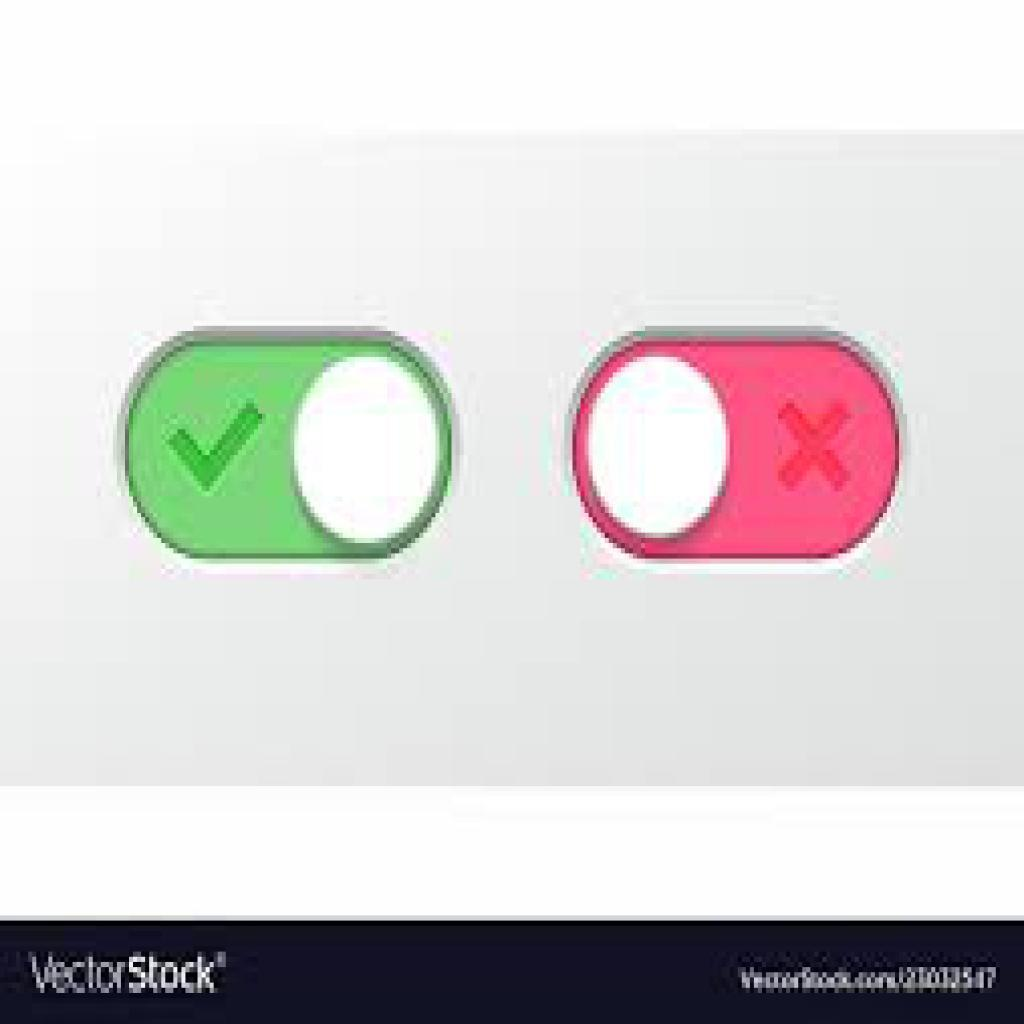switch: (570, 326, 905, 568), (115, 327, 458, 563)
